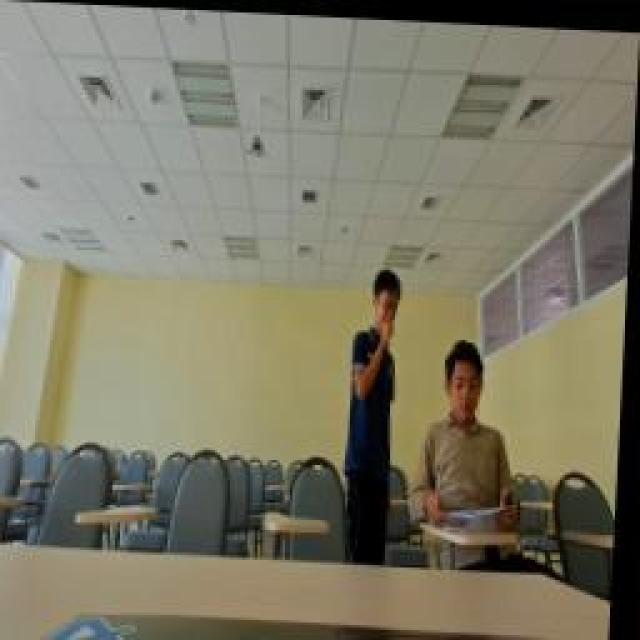phone: (415, 320, 530, 530)
